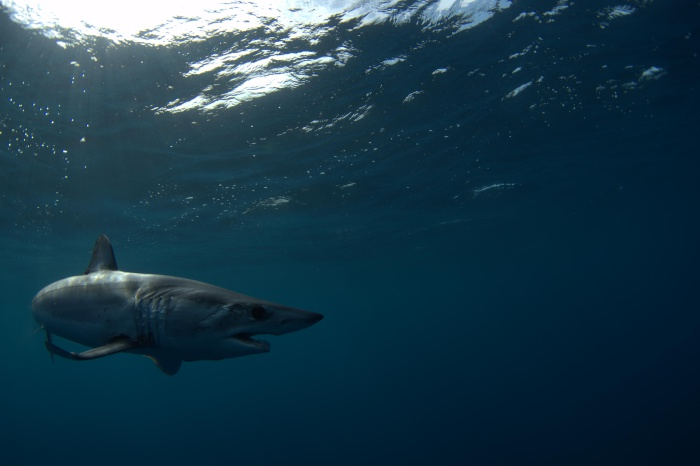Mako: (15, 224, 341, 395)
